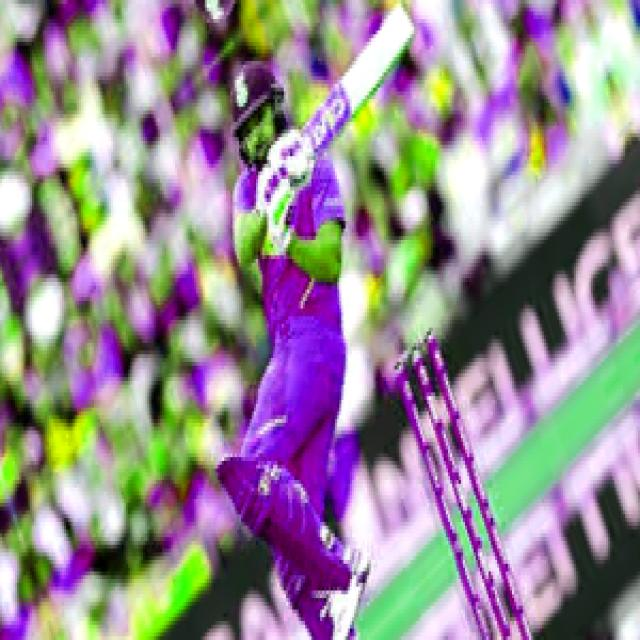toe: (366, 12, 413, 67)
